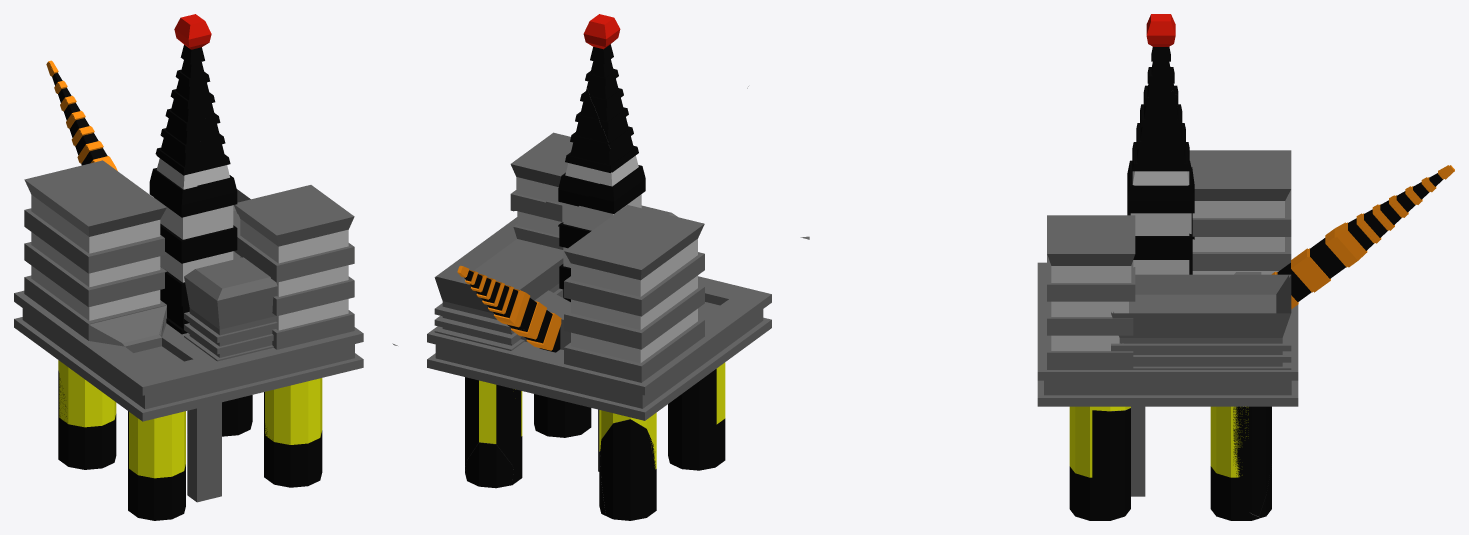
Rendered from OilRig.fbx.
The picture shows the model from 3 angles, left to right: view 1: azimuth 30°, elevation 25°; view 2: azimuth 150°, elevation 25°; view 3: azimuth 270°, elevation 25°; orthographic projection. The views are drawn at different scales.
Visible parts, largest first — view 1: Oil, Cube.001_cell.010, Cube.001_cell.006, Cube.001_cell.001, Cube.001_cell.003, Cube.001_cell.024, Cube.001_cell.026; view 2: Oil, Cube.001_cell.010, Cube.001_cell, Cube.001_cell.006, Cube.001_cell.023, Cube.001_cell.020, Cube.001_cell.004, Cube.001_cell.003, Cube.001_cell.027, Cube.001_cell.001, Cube.001_cell.017, Cube.001_cell.026 (+4 smaller); view 3: Oil, Cube.001_cell.010, Cube.001_cell, Cube.001_cell.027, Cube.001_cell.001, Cube.001_cell.026, Cube.001_cell.006, Cube.001_cell.011, Cube.001_cell.004, Cube.001_cell.029, Cube.001_cell.032, Cube.001_cell.003 (+1 smaller).
Part boxes in pixels (x1,y1,x2,y2): Oil: (16,15,363,520); Cube.001_cell.010: (14,161,275,420); Cube.001_cell.006: (14,160,102,307); Cube.001_cell.001: (46,60,108,165); Cube.001_cell.003: (161,14,210,174); Cube.001_cell.024: (184,257,243,352); Cube.001_cell.026: (234,185,311,219); Oil: (428,14,771,510); Cube.001_cell.010: (427,217,770,420); Cube.001_cell: (434,217,563,474); Cube.001_cell.006: (564,235,687,391); Cube.001_cell.023: (600,419,655,520); Cube.001_cell.020: (668,369,716,470); Cube.001_cell.004: (558,87,617,222); Cube.001_cell.003: (583,20,635,160); Cube.001_cell.027: (534,394,589,437); Cube.001_cell.001: (457,266,525,329); Cube.001_cell.017: (466,442,513,488); Cube.001_cell.026: (510,163,561,211); Oil: (1037,14,1449,520); Cube.001_cell.010: (1041,188,1298,406); Cube.001_cell: (1113,277,1291,516); Cube.001_cell.027: (1092,408,1130,520); Cube.001_cell.001: (1321,165,1454,277); Cube.001_cell.026: (1080,215,1135,301); Cube.001_cell.006: (1195,150,1291,237); Cube.001_cell.011: (1129,94,1168,225); Cube.001_cell.004: (1162,90,1194,233); Cube.001_cell.029: (1131,406,1145,496); Cube.001_cell.032: (1190,274,1289,294); Cube.001_cell.003: (1135,14,1184,147).
Size of the model in its own units: 307 by 621 by 779.
